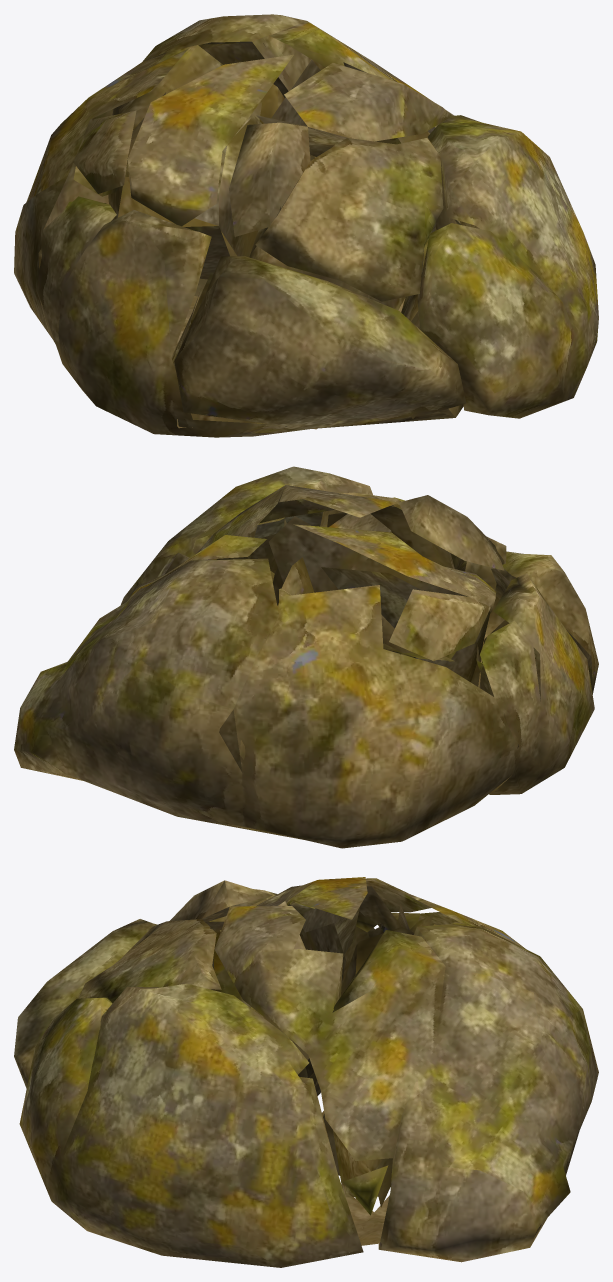
File: boulder-1.glb
3 views of the same model, one above another, from view 1: azimuth 30°, elevation 25°; view 2: azimuth 150°, elevation 25°; view 3: azimuth 270°, elevation 25° (orthographic). The views are drawn at different scales.
Visible parts, largest first — view 1: boulder-1.raw; view 2: boulder-1.raw; view 3: boulder-1.raw.
Part boxes in pixels (left/top/right/bottom): boulder-1.raw: left=14, top=14, right=598, bottom=437; boulder-1.raw: left=14, top=466, right=598, bottom=848; boulder-1.raw: left=14, top=877, right=598, bottom=1267.
Bounding box in the file's own units: 2.59 × 1.4 × 2.84.
Materials: 1 (1 with a texture image).
